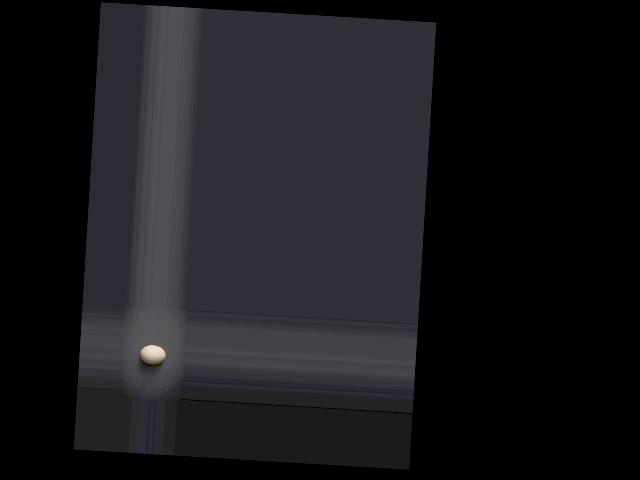egg: (139, 344, 166, 364)
